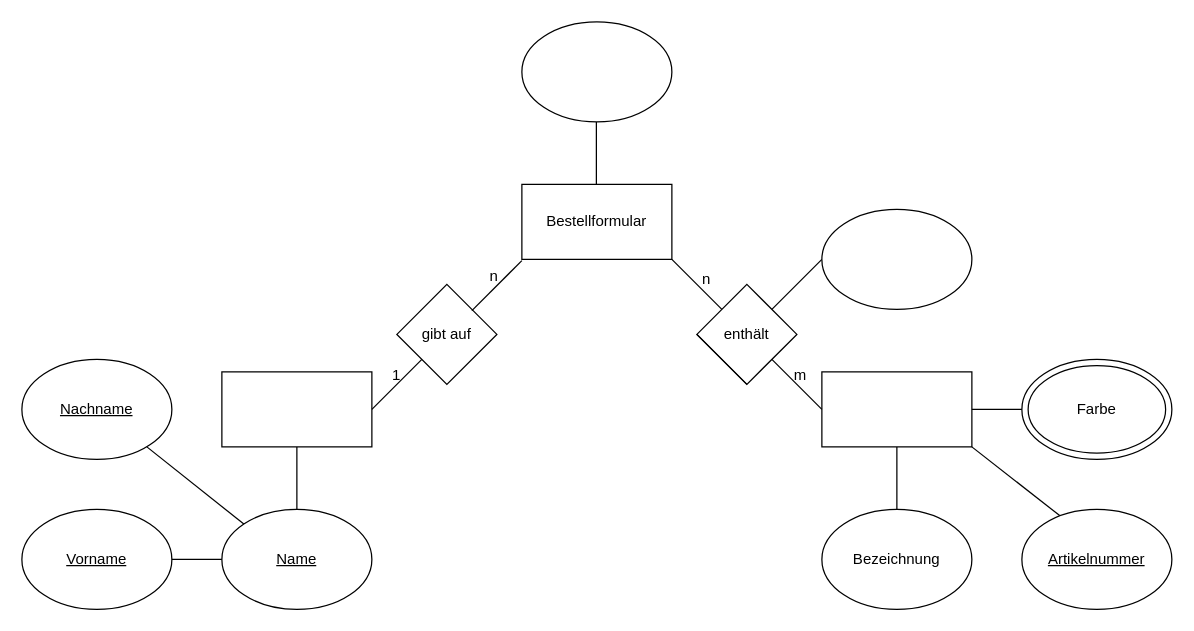
This 1194x631 diagram has some shape labels left out. Each missing label, with the box of its shape:
Bestelldatum: (521, 21, 672, 122)
Menge: (821, 208, 972, 309)
Person: (221, 371, 372, 447)
Produkt: (821, 371, 972, 447)
